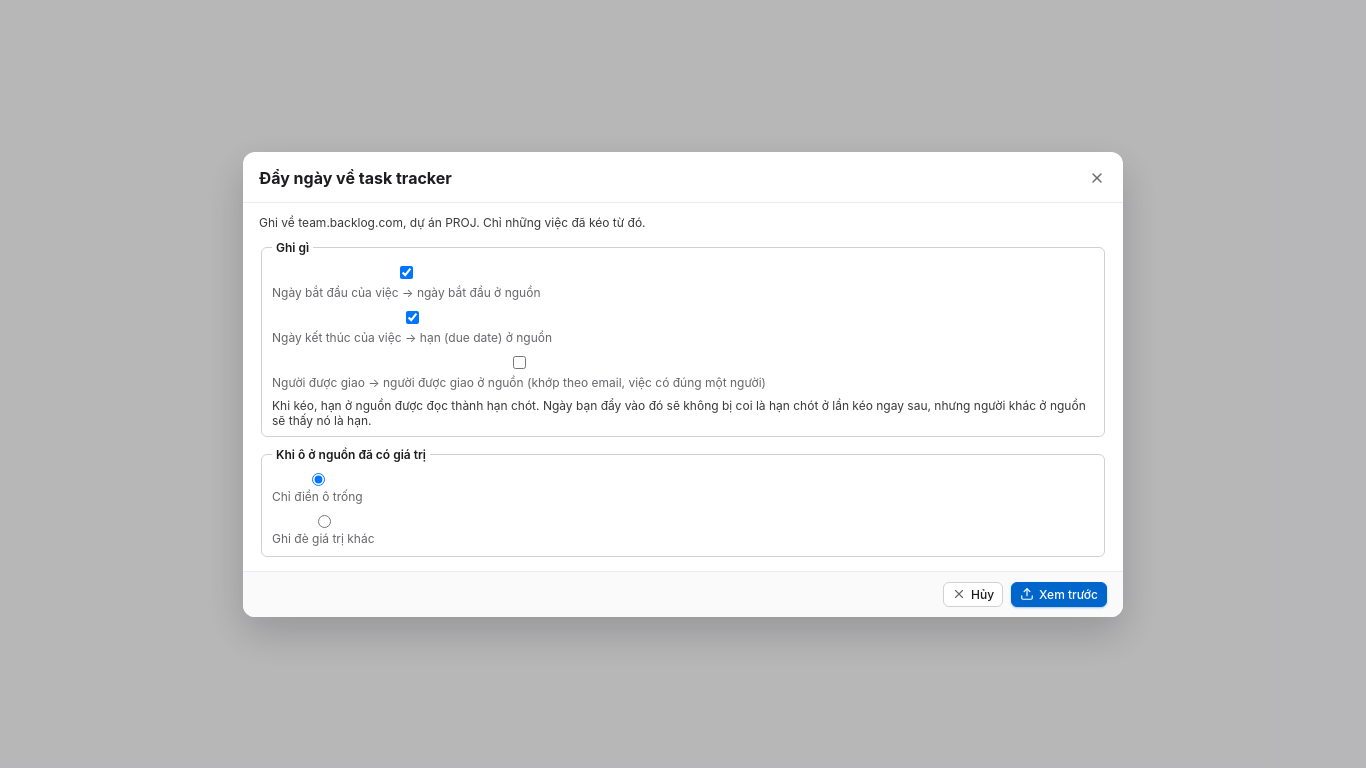
Scenario: TrackerPushDialog › previews what would change at the source with the options chosen
What coordinates should you click on to do the following:
click the checkbox labelled "Người được giao"
I would click on:
 (520, 362)
Its box is [276,356,763,368].
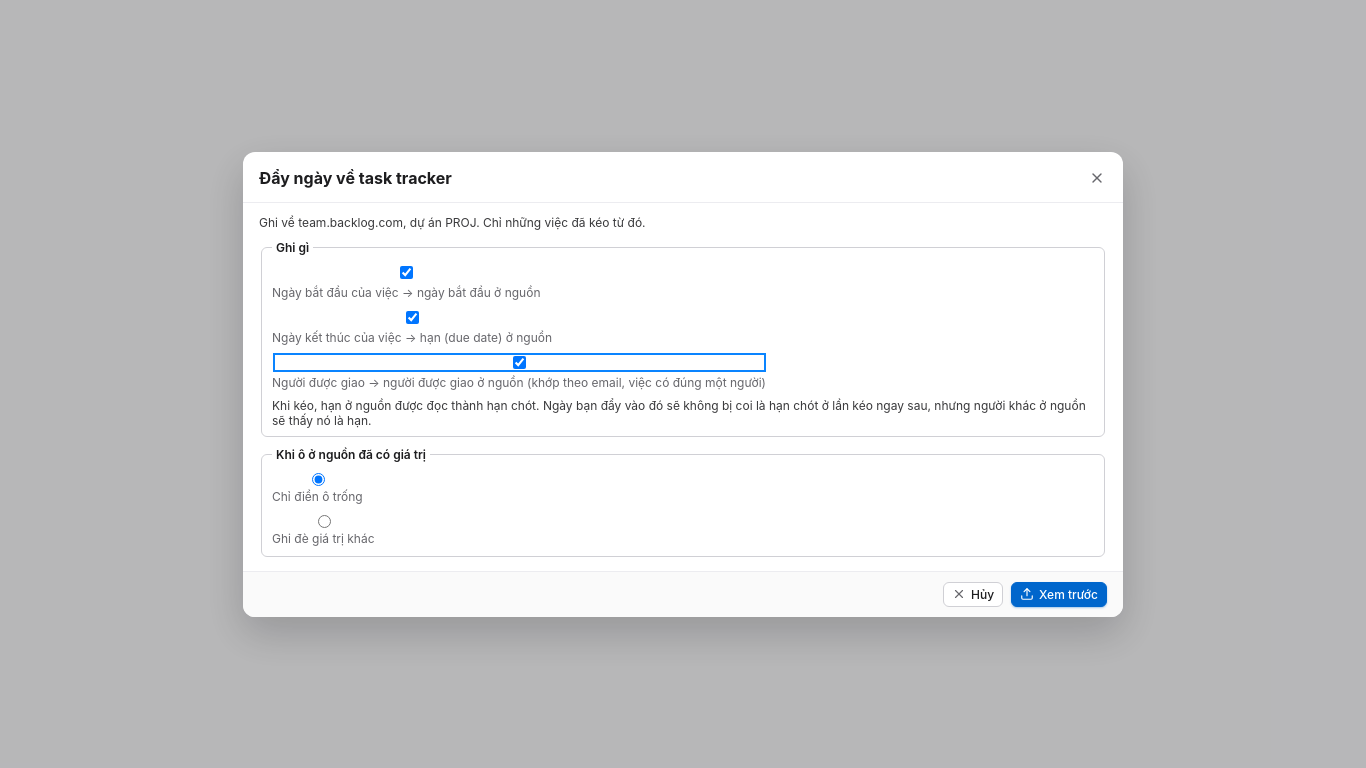
What coordinates should you click on to do the following:
click the radio button labelled "Ghi đè giá trị khác"
I would click on:
 (324, 521)
Its box is [277,514,372,528].
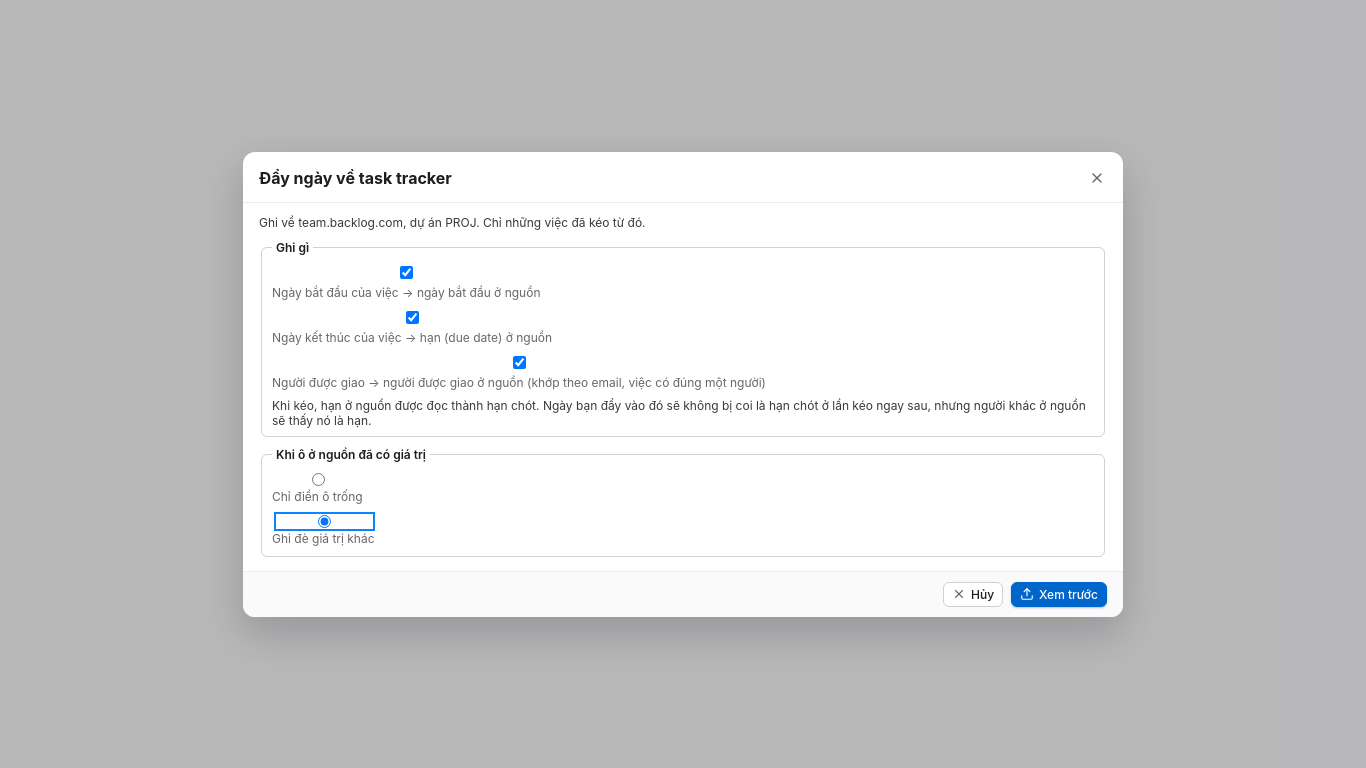
What coordinates should you click on to do the following:
click the button "Xem trước"
I would click on:
 (1059, 594)
Its box is [1011,582,1107,606].
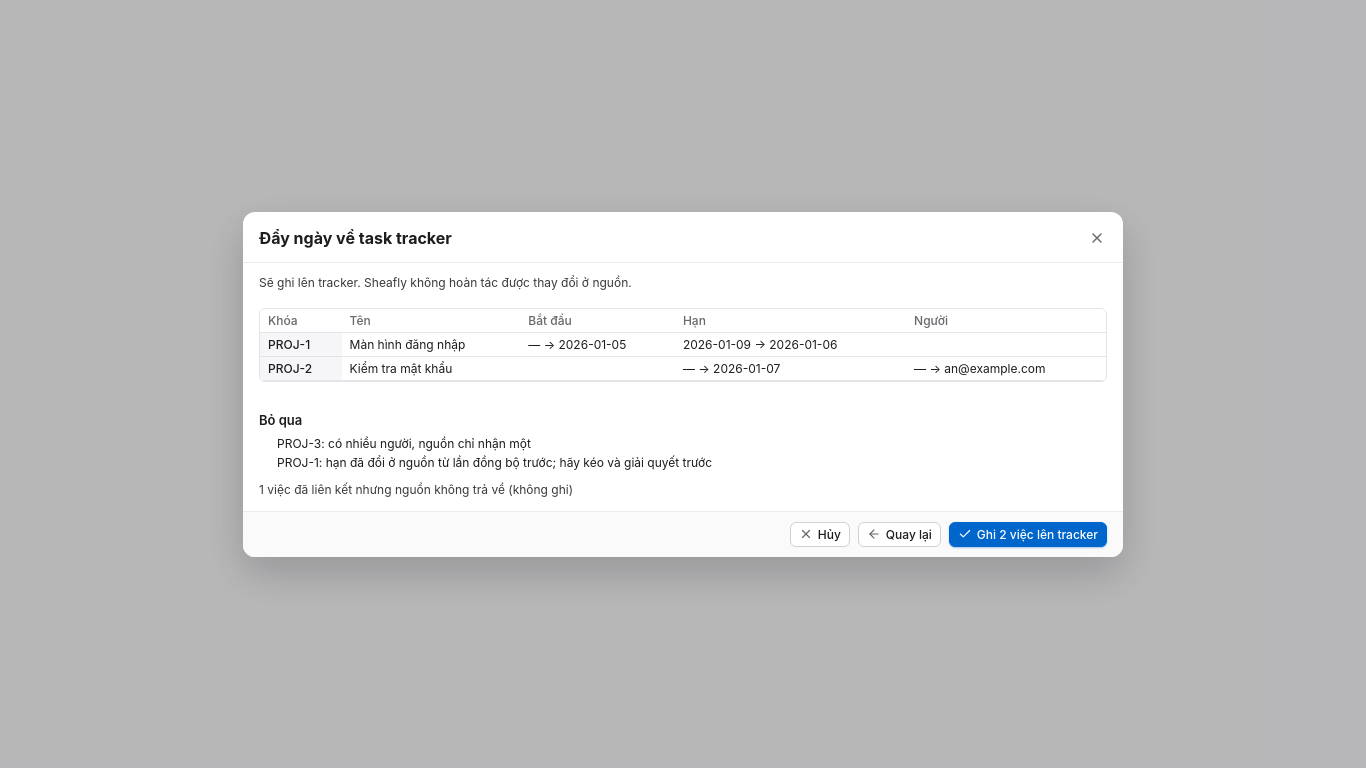
Now the table named "Việc sẽ ghi" is shown, box [260,308,1106,380]
Now the text "— → 2026-01-05" is shown, box [520,332,675,356]
Now the text "2026-01-09 → 2026-01-06" is shown, box [675,332,906,356]
